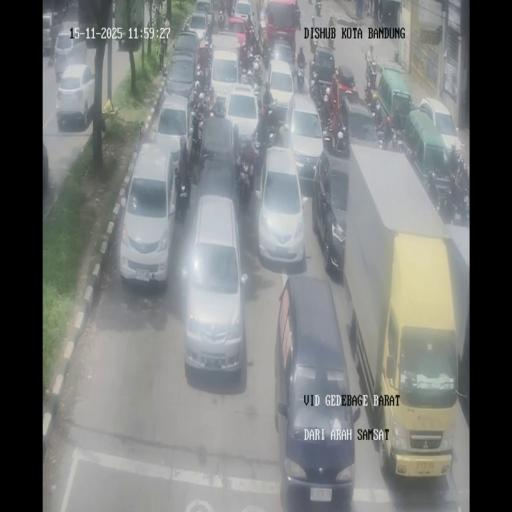3: (342, 152, 463, 470), (376, 68, 412, 132), (264, 0, 300, 59)
car: (274, 275, 354, 505), (182, 195, 247, 373), (119, 143, 178, 285), (314, 150, 348, 278), (282, 91, 322, 184), (153, 95, 192, 177), (418, 98, 464, 164), (223, 82, 261, 152), (338, 91, 380, 151), (264, 60, 296, 122), (164, 52, 199, 106), (54, 30, 87, 82), (309, 46, 337, 102), (185, 10, 210, 42), (42, 11, 58, 55)
truck: (235, 157, 255, 208), (174, 163, 191, 220), (190, 114, 206, 168), (436, 178, 454, 220), (195, 39, 212, 82), (381, 127, 403, 153), (401, 134, 417, 168), (456, 185, 469, 223), (238, 40, 251, 75), (202, 84, 216, 115), (250, 56, 262, 88), (258, 16, 268, 52), (295, 58, 306, 90), (322, 122, 334, 150), (214, 95, 228, 118), (364, 79, 375, 107), (373, 103, 383, 132), (249, 27, 258, 52), (310, 27, 317, 55), (224, 0, 234, 18), (217, 8, 225, 29), (376, 130, 384, 150), (378, 0, 384, 23), (328, 12, 336, 28), (256, 0, 262, 19), (315, 0, 322, 16), (311, 13, 316, 29)
